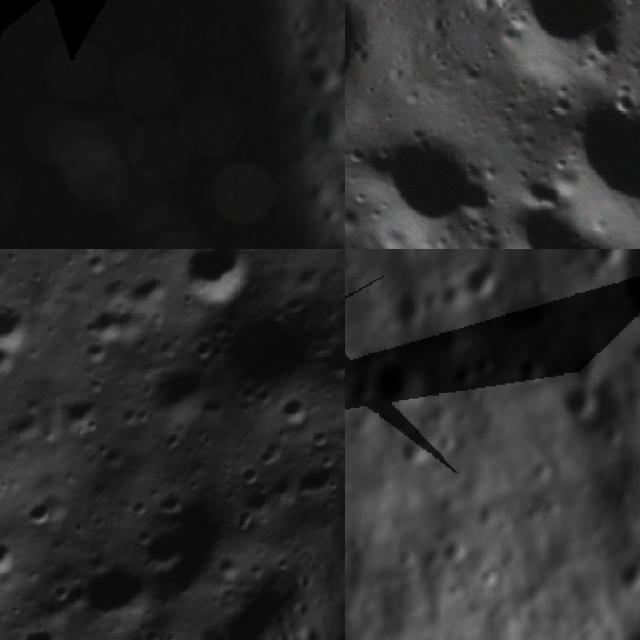crater: (345, 94, 512, 249), (531, 50, 640, 249), (208, 285, 330, 410), (472, 172, 615, 249), (57, 541, 163, 640), (509, 0, 634, 75), (139, 347, 230, 438), (168, 249, 272, 322), (278, 444, 345, 515), (52, 381, 115, 444), (117, 258, 178, 321), (133, 520, 194, 582), (580, 14, 638, 73), (372, 358, 438, 408), (0, 291, 44, 360), (270, 383, 325, 438), (464, 252, 509, 306), (317, 312, 345, 392), (4, 612, 75, 640), (384, 288, 426, 325), (230, 456, 270, 494), (0, 526, 22, 585), (516, 350, 548, 387), (564, 382, 590, 418), (476, 492, 498, 530), (586, 249, 621, 272), (600, 421, 627, 450), (435, 427, 463, 453), (543, 490, 567, 520), (623, 553, 640, 594), (470, 354, 500, 376), (401, 442, 426, 468), (345, 533, 369, 553), (479, 570, 500, 592), (454, 364, 473, 386), (448, 581, 466, 602), (500, 555, 520, 573), (497, 520, 516, 537), (524, 504, 541, 522), (627, 345, 640, 367), (502, 504, 522, 518), (626, 630, 640, 640), (636, 614, 640, 630)
